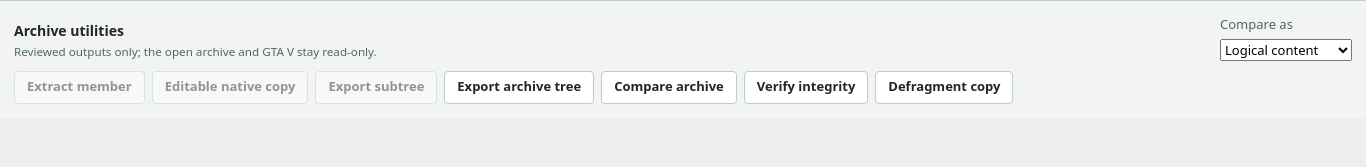
reports picker failures and unlocks without starting a job
Click the button "Compare archive": [669, 87] box [601,70,737,104]
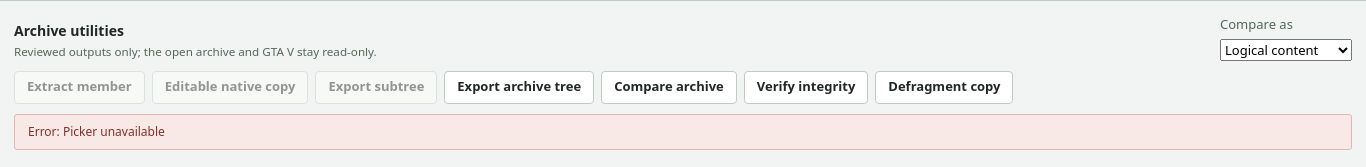
Expected: the message shows "Picker unavailable", [28,122,165,140]
